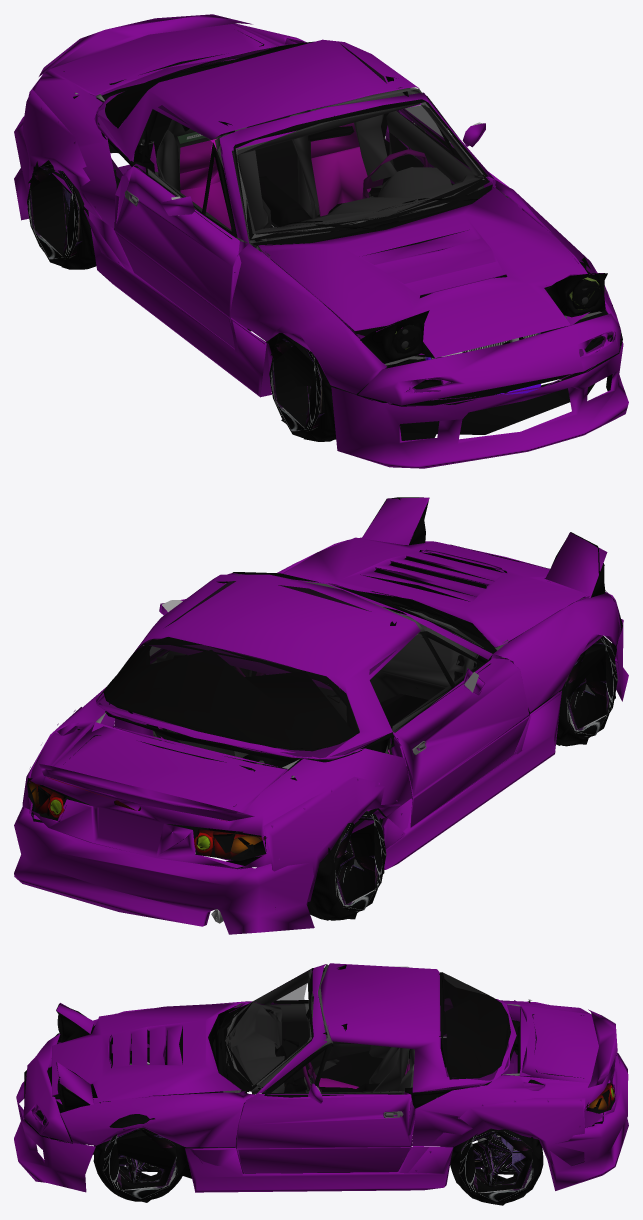
File: mazda_miata_mx-5_lo.glb
The picture shows the model from 3 angles, top to bottom: view 1: azimuth 30°, elevation 25°; view 2: azimuth 150°, elevation 25°; view 3: azimuth 270°, elevation 25°; orthographic projection. The views are drawn at different scales.
Parts seen in each view (by area): view 1: RLA_miata_headlight_R_popup.001, RLA_miata_headlight_R_popup, RLA_miata_windshield, RLA_miata_seat_driver_a, RLA_miata_seat_passenger_a, RLA_miata_window_rf, RLA_miata_dash, RLA_miata_wheel.003, RLA_miata_wheel.002, Object_4.004_Scene_-_Root.002_0, Object_4.002_Scene_-_Root.002_0, RLA_miata_window_lf; view 2: RLA_miata_headlight_R_popup.001, RLA_miata_headlight_R_popup, RLA_miata_window_rf, RLA_miata_dash, RLA_miata_wheel.003, RLA_miata_wheel.002, Object_4.004_Scene_-_Root.002_0, RLA_miata_taillight_L.001, Object_4.002_Scene_-_Root.002_0, RLA_miata_taillight_L; view 3: RLA_miata_headlight_R_popup.001, RLA_miata_headlight_R_popup, RLA_miata_windshield, RLA_miata_window_lf, RLA_miata_wheel.001, RLA_miata_dash, RLA_miata_wheel, Object_4.003_Scene_-_Root.002_0, Object_4.001_Scene_-_Root.002_0, RLA_miata_seat_passenger_a, RLA_miata_seat_driver_a, RLA_miata_taillight_L (+1 smaller).
Boxes of the visible parts, x1,y1,x2,y2 form: RLA_miata_headlight_R_popup.001: (14, 14, 628, 468); RLA_miata_headlight_R_popup: (22, 32, 622, 440); RLA_miata_windshield: (237, 104, 483, 233); RLA_miata_seat_driver_a: (289, 104, 396, 218); RLA_miata_seat_passenger_a: (156, 119, 271, 230); RLA_miata_window_rf: (140, 105, 232, 233); RLA_miata_dash: (239, 167, 479, 250); RLA_miata_wheel.003: (27, 160, 116, 259); RLA_miata_wheel.002: (270, 337, 325, 431); Object_4.004_Scene_-_Root.002_0: (27, 161, 120, 269); Object_4.002_Scene_-_Root.002_0: (269, 335, 367, 441); RLA_miata_window_lf: (400, 87, 448, 149); RLA_miata_headlight_R_popup.001: (14, 497, 628, 934); RLA_miata_headlight_R_popup: (25, 497, 622, 907); RLA_miata_window_rf: (369, 632, 481, 726); RLA_miata_dash: (370, 607, 481, 702); RLA_miata_wheel.003: (333, 811, 386, 913); RLA_miata_wheel.002: (564, 637, 617, 738); Object_4.004_Scene_-_Root.002_0: (307, 812, 384, 920); RLA_miata_taillight_L.001: (194, 829, 266, 858); Object_4.002_Scene_-_Root.002_0: (538, 636, 615, 746); RLA_miata_taillight_L: (28, 780, 64, 817); RLA_miata_headlight_R_popup.001: (14, 963, 628, 1192); RLA_miata_headlight_R_popup: (17, 964, 616, 1178); RLA_miata_windshield: (225, 971, 309, 1085); RLA_miata_window_lf: (271, 1043, 414, 1094); RLA_miata_wheel.001: (458, 1130, 533, 1201); RLA_miata_dash: (225, 1002, 296, 1136); RLA_miata_wheel: (102, 1128, 177, 1199); Object_4.003_Scene_-_Root.002_0: (93, 1114, 186, 1202); Object_4.001_Scene_-_Root.002_0: (450, 1128, 543, 1205); RLA_miata_seat_passenger_a: (310, 1045, 399, 1088); RLA_miata_seat_driver_a: (373, 1048, 414, 1094); RLA_miata_taillight_L: (586, 1082, 614, 1113).
Size of what is drawn, in the model's own units: 1.8 by 1.13 by 3.9.
41 materials, 8 textured.
